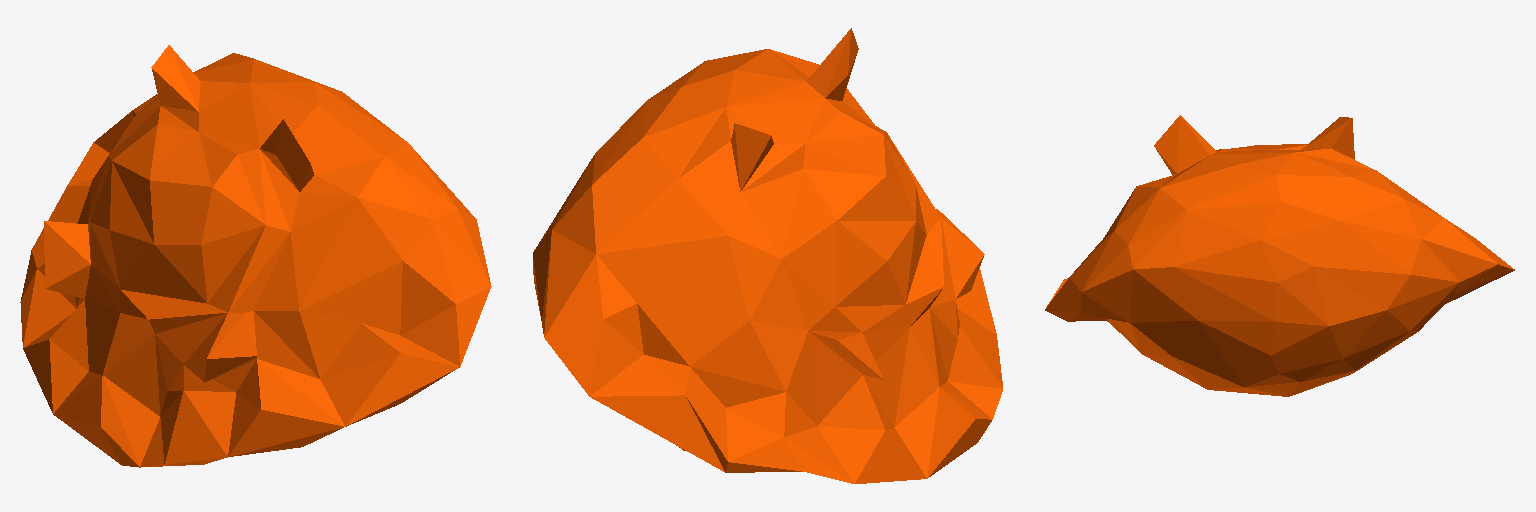
robot.urdf — loopy_head_side:
<?xml version="1.0" ?>
<robot name="loopy_head_side">
   <material name="obj_color">
      <color rgba="1.0 0.423529411765 0.0392156862745 1.0"/>
   </material>
   <link name="top">
      <inertial>
         <origin rpy="0.0004766533239783631 0.0006602960478853331 0.0007962644522449665" xyz="0.0225931621309735 0.003748245372629158 -0.0001201398974969384"/>
         <mass value="0.24875"/>
         <inertia ixx="0.000713731784560743" ixy="1.447230189342342e-05" ixz="-6.607998154593611e-05" iyy="0.0004777297887725327" iyz="-1.093398719392045e-05" izz="0.0007417522507753866"/>
      </inertial>
      <visual>
         <origin rpy="0 0 0" xyz="0 0 0"/>
         <geometry>
            <mesh filename="top_watertight_tiny.stl" scale="1 1 1"/>
         </geometry>
         <material name="obj_color"/>
      </visual>
      <collision>
         <origin rpy="0 0 0" xyz="0 0 0"/>
         <geometry>
            <mesh filename="top_watertight_tiny.obj" scale="1 1 1"/>
         </geometry>
      </collision>
   </link>
   <link name="bottom">
      <inertial>
         <origin rpy="1.633333333194242e-08 1.633333333194243e-08 1.633333333357667e-08" xyz="0.3464080000000008 0.3464080000000008 0.3464080000000008"/>
         <mass value="0.0009800000000000017"/>
         <inertia ixx="1.633333333248717e-08" ixy="5.447480642029219e-19" ixz="5.447480642029219e-19" iyy="1.633333333248717e-08" iyz="5.447480642029219e-19" izz="1.633333333248717e-08"/>
      </inertial>
      <visual>
         <origin rpy="0 0 0" xyz="0 0 0"/>
         <geometry>
            <mesh filename="bottom_watertight_tiny.stl" scale="1 1 1"/>
         </geometry>
         <material name="obj_color"/>
      </visual>
   </link>
   <link name="world"/>
   <joint name="world_to_base" type="fixed">
      <origin xyz="0 0 0"/>
      <axis xyz="0 0 0"/>
      <parent link="world"/>
      <child link="bottom"/>
   </joint>
   <joint name="rotation" type="revolute">
      <origin xyz="0 0 0"/>
      <axis xyz="0 0 -1"/>
      <parent link="bottom"/>
      <child link="top"/>
      <dynamics damping="1.0" friction="1.0"/>
      <limit effort="0.1" velocity="0.1" lower="0" upper="0.001"/>
   </joint>
</robot>

--- Facts derived from the render (not from the file) ---
The picture shows the robot from 3 angles, left to right: view 1: azimuth 30°, elevation 25°; view 2: azimuth 150°, elevation 25°; view 3: azimuth 270°, elevation 25°; orthographic projection.
Model loopy_head_side with 3 links and 2 joints (1 revolute, 1 fixed), rooted at world, posed all joints at 0.
Visible links, largest first — view 1: top; view 2: top; view 3: top.
Link boxes in pixels (<box>): top: <box>20,45,491,467</box>; top: <box>533,28,1002,483</box>; top: <box>1045,115,1514,396</box>.
Size in the robot's own frame: 0.149 by 0.2375 by 0.1431 metres.
Meshes: 2 distinct files referenced, 1 mesh visuals loaded (1 binary STL); not drawn: 1 (reference not matched to a file when rendering).